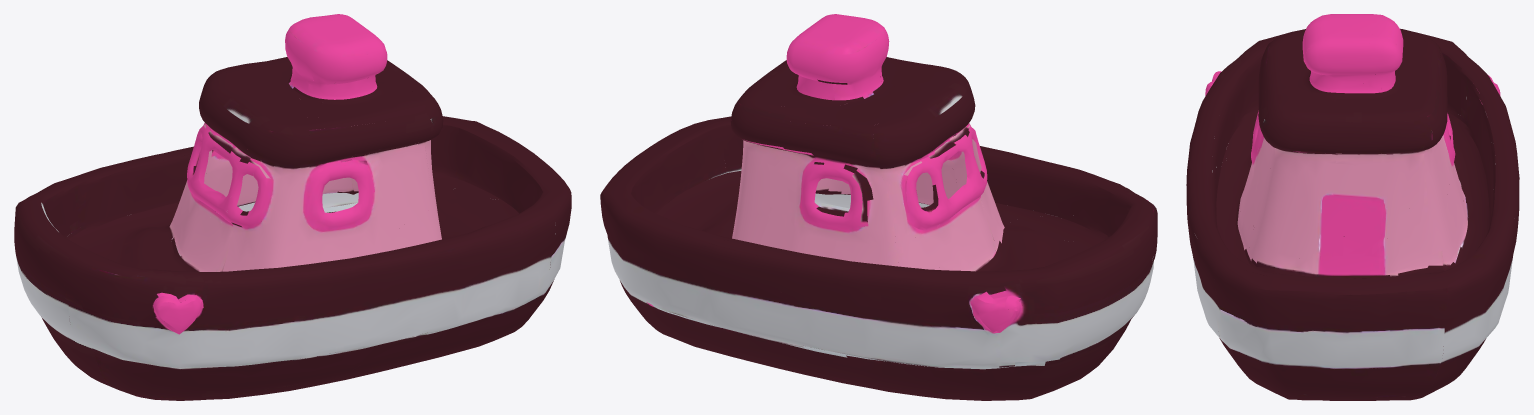
File: cosmic-boat.glb
The picture shows the model from 3 angles, left to right: view 1: azimuth 30°, elevation 25°; view 2: azimuth 150°, elevation 25°; view 3: azimuth 270°, elevation 25°; orthographic projection.
Parts seen in each view (by area): view 1: Mesh_0; view 2: Mesh_0; view 3: Mesh_0.
Boxes of the visible parts, bbox=[...] form: Mesh_0: bbox=[14, 14, 571, 400]; Mesh_0: bbox=[600, 14, 1157, 400]; Mesh_0: bbox=[1186, 14, 1519, 400].
Size of the model in its own units: 1.91 by 1.14 by 1.12.
Materials: 1 (1 with a texture image).
